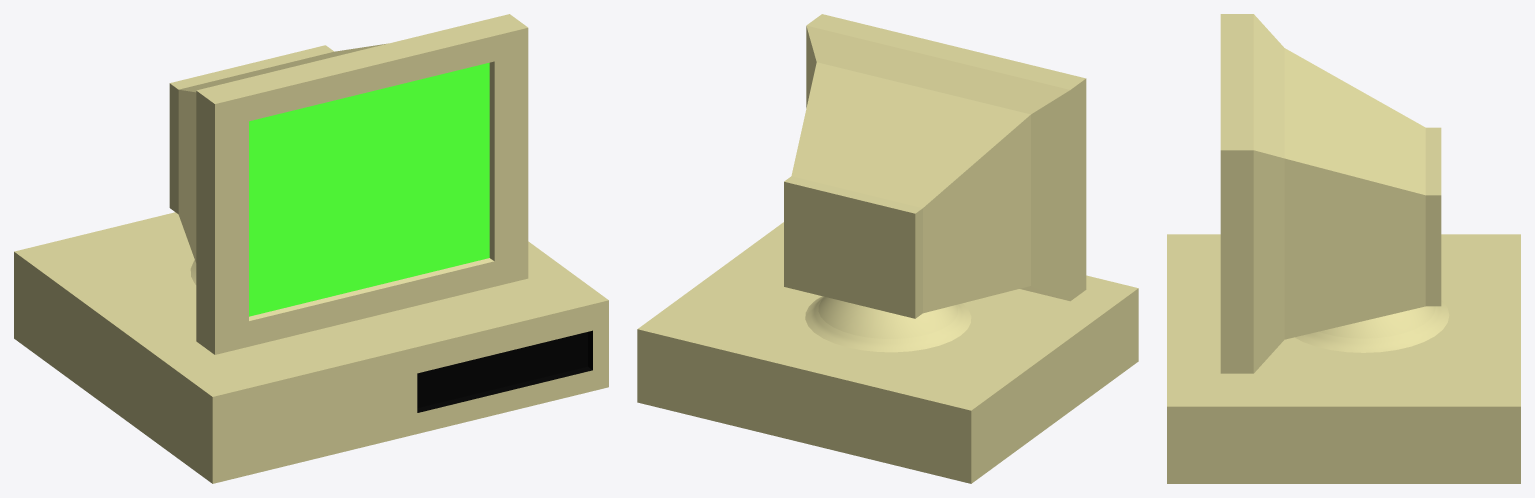
Rendered from computer.glb.
The picture shows the model from 3 angles, left to right: view 1: azimuth 30°, elevation 25°; view 2: azimuth 150°, elevation 25°; view 3: azimuth 270°, elevation 25°; orthographic projection. The views are drawn at different scales.
Parts seen in each view (by area): view 1: Cube.001, Cube; view 2: Cube.001, Cube, Cylinder; view 3: Cube, Cube.001, Cylinder.
Boxes of the visible parts, x1,y1,x2,y2 form: Cube.001: [169, 14, 528, 354]; Cube: [14, 212, 608, 483]; Cube.001: [784, 14, 1086, 318]; Cube: [637, 222, 1138, 483]; Cylinder: [805, 296, 971, 352]; Cube: [1167, 234, 1520, 483]; Cube.001: [1220, 14, 1441, 373]; Cylinder: [1295, 300, 1449, 352].
Bounding box in the file's own units: 3.31 × 2.84 × 2.87.
